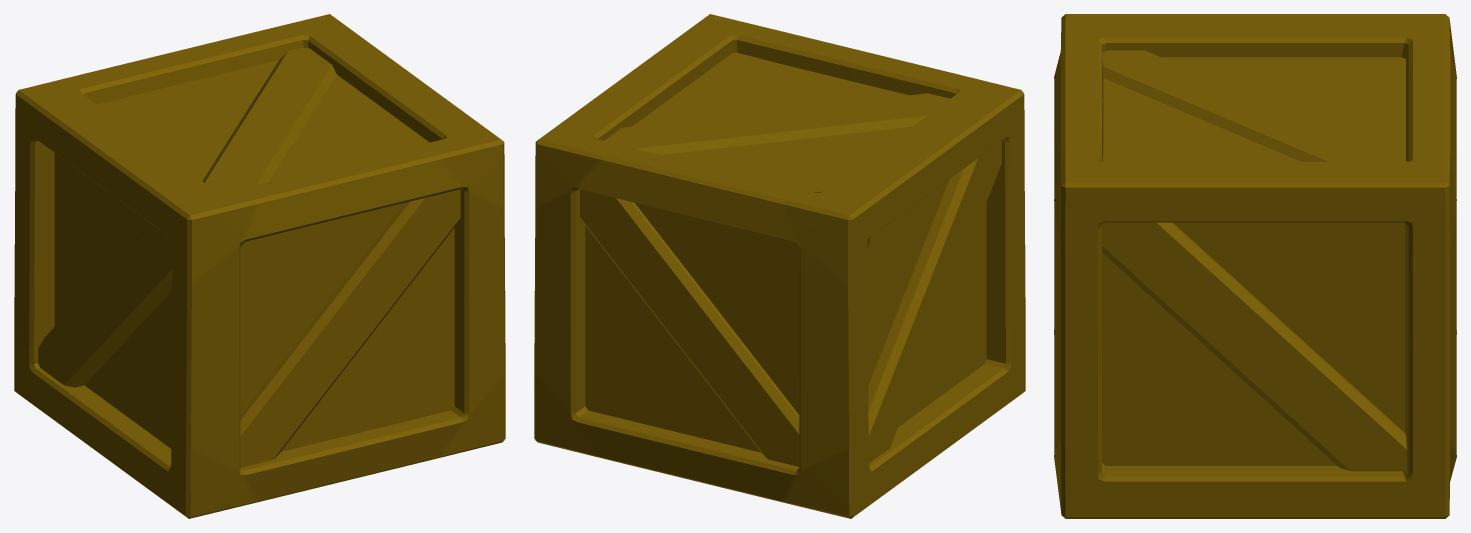
The picture shows the model from 3 angles, left to right: view 1: azimuth 30°, elevation 25°; view 2: azimuth 150°, elevation 25°; view 3: azimuth 270°, elevation 25°; orthographic projection. The views are drawn at different scales.
Parts seen in each view (by area): view 1: group2_pCube1; view 2: group2_pCube1; view 3: group2_pCube1.
Part boxes in pixels (<box>): group2_pCube1: <box>14,14,505,518</box>; group2_pCube1: <box>534,14,1025,518</box>; group2_pCube1: <box>1054,14,1456,518</box>.
Bounding box in the file's own units: 3.11 × 2.82 × 3.06.
